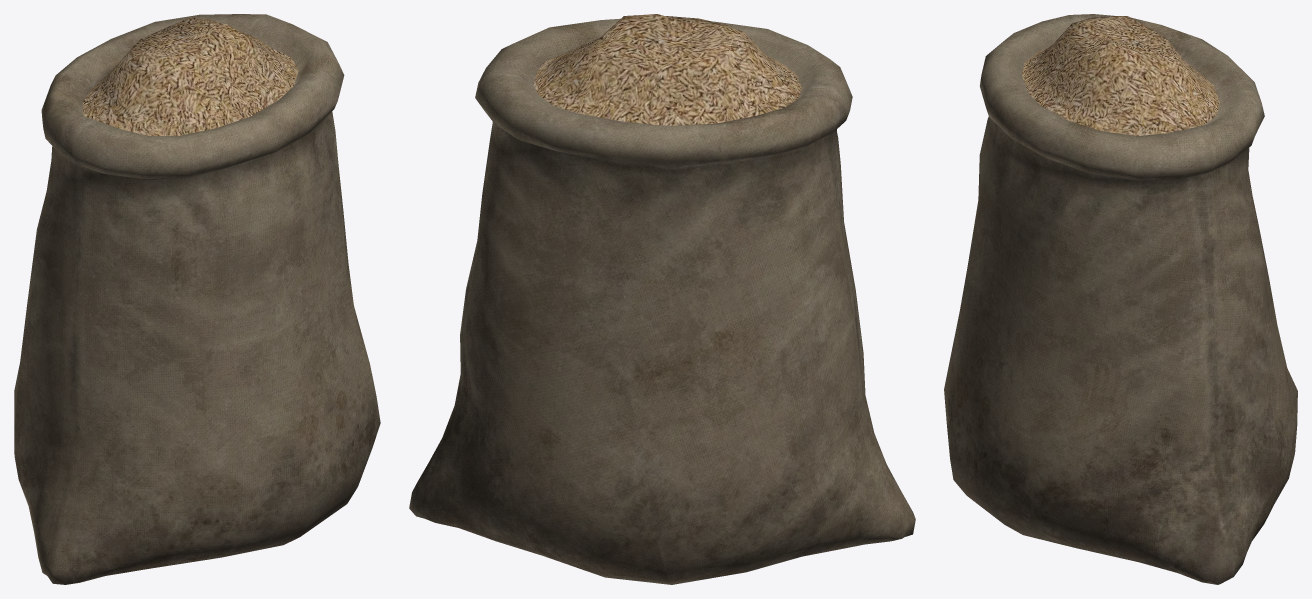
Rendered from Sack_Bag_05.glb.
3 views of the same model, side by side, from view 1: azimuth 30°, elevation 25°; view 2: azimuth 150°, elevation 25°; view 3: azimuth 270°, elevation 25° (orthographic). The views are drawn at different scales.
Parts seen in each view (by area): view 1: SM_Sack_Bag_05; view 2: SM_Sack_Bag_05; view 3: SM_Sack_Bag_05.
Boxes of the visible parts, x1,y1,x2,y2 form: SM_Sack_Bag_05: [14, 14, 380, 584]; SM_Sack_Bag_05: [409, 14, 915, 584]; SM_Sack_Bag_05: [944, 14, 1297, 584].
Bounding box in the file's own units: 0.7405 × 0.8915 × 0.6065.
1 material, 1 textured.
